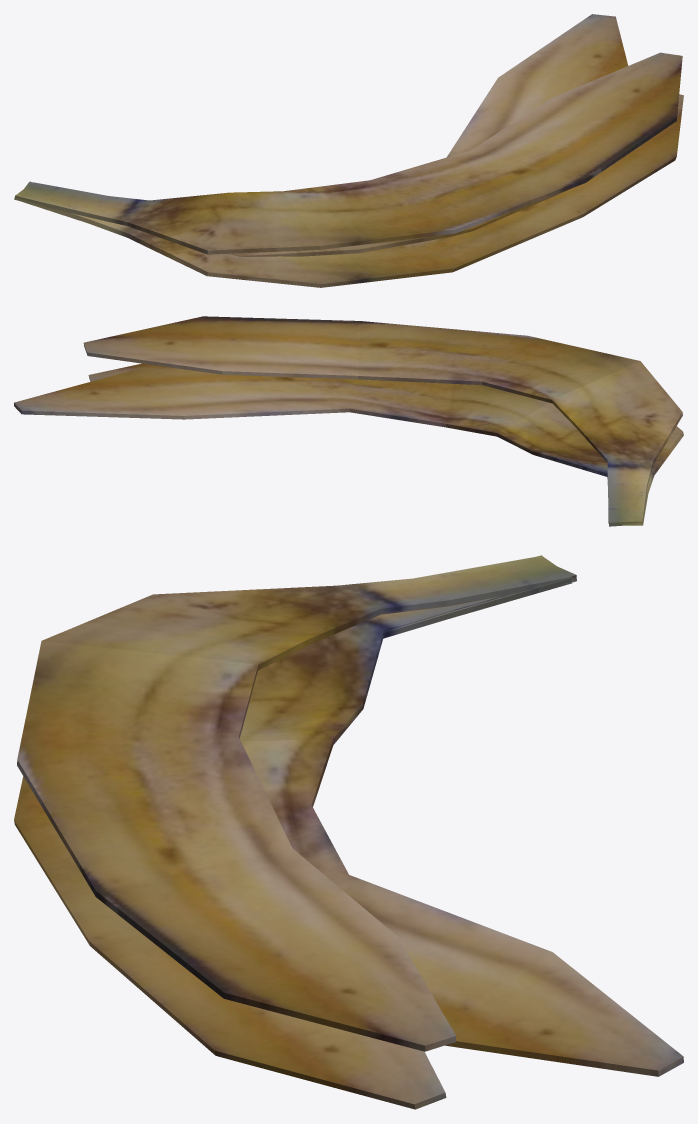
File: banana_skin.fbx
3 views of the same model, one above another, from view 1: azimuth 30°, elevation 25°; view 2: azimuth 150°, elevation 25°; view 3: azimuth 270°, elevation 25° (orthographic). The views are drawn at different scales.
Parts seen in each view (by area): view 1: banana_skin; view 2: banana_skin; view 3: banana_skin.
Part boxes in pixels (x1,y1,x2,y2): banana_skin: (14,14,683,287); banana_skin: (14,316,683,526); banana_skin: (14,555,683,1109).
Size of the model in its own units: 84.11 by 6.64 by 46.45.
